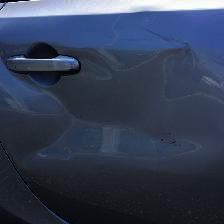door_dent: (15, 34, 214, 171)
